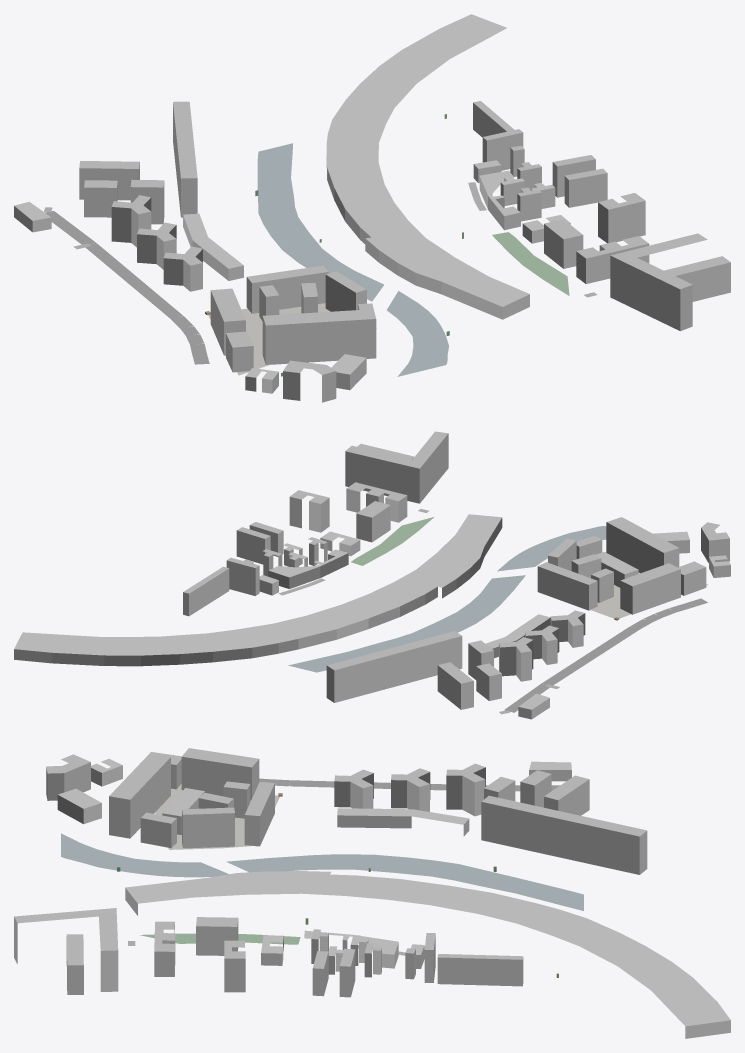
3 renders of one model, top to bottom at view 1: azimuth 30°, elevation 25°; view 2: azimuth 150°, elevation 25°; view 3: azimuth 270°, elevation 25°, orthographic. The views are drawn at different scales.
Bounding box in the file's own units: 616 × 43.87 × 686.
